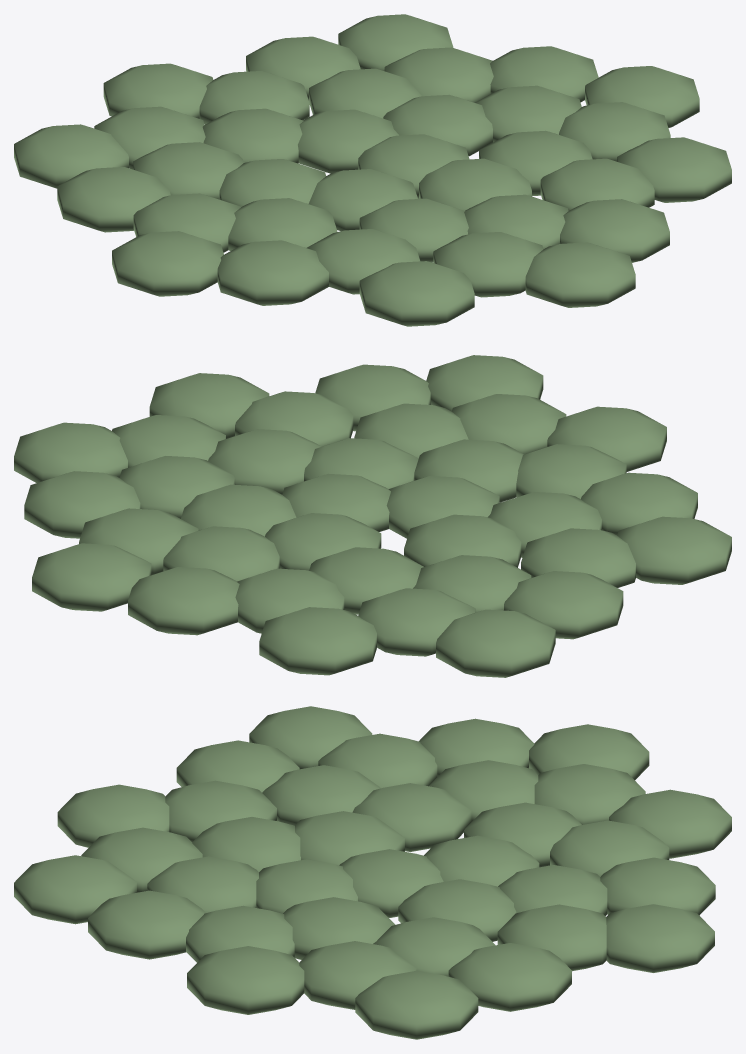
Rendered from moss_patch01.glb.
3 views of the same model, one above another, from view 1: azimuth 30°, elevation 25°; view 2: azimuth 150°, elevation 25°; view 3: azimuth 270°, elevation 25° (orthographic). The views are drawn at different scales.
Visible parts, largest first — view 1: moss; view 2: moss; view 3: moss.
Boxes of the visible parts, x1,y1,x2,y2 form: moss: (14, 14, 731, 326); moss: (14, 355, 731, 677); moss: (14, 706, 731, 1039).
Size of the model in its own units: 1.04 by 0.07 by 0.9986.
